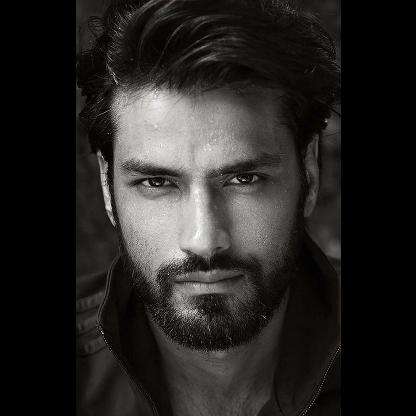Male: (94, 70, 324, 344)
